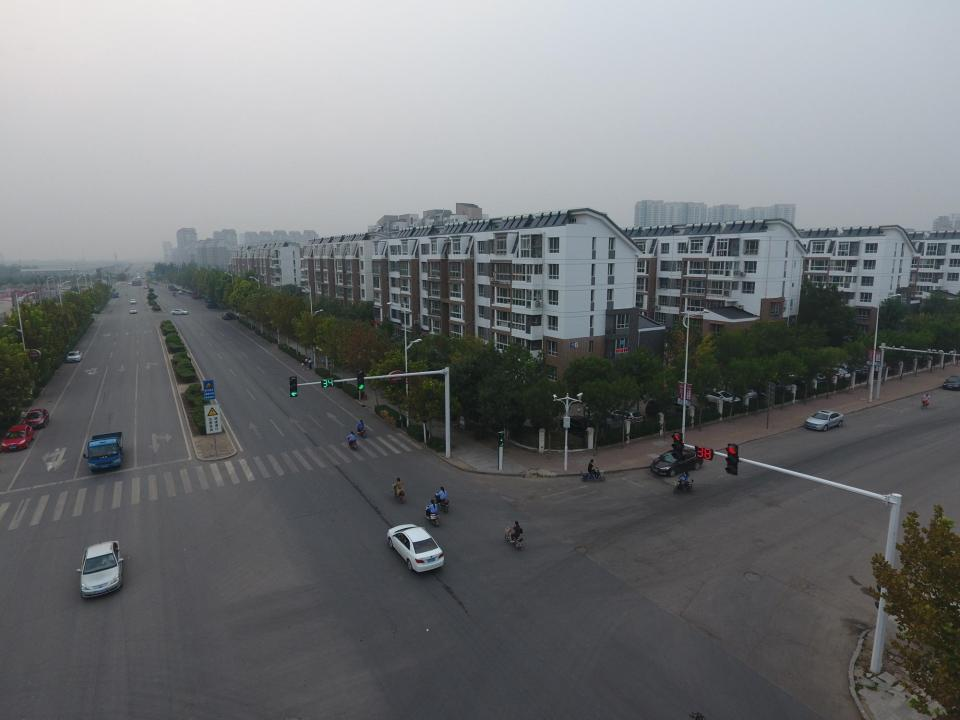car: (75, 540, 124, 599), (387, 524, 444, 572), (649, 447, 703, 476), (561, 414, 602, 439), (1, 424, 34, 452), (804, 410, 844, 432), (646, 399, 690, 418), (697, 388, 740, 406), (612, 407, 644, 427), (586, 412, 620, 430), (22, 408, 50, 429), (942, 374, 960, 389), (66, 350, 83, 362), (171, 309, 188, 315), (222, 314, 234, 320), (112, 290, 118, 298), (129, 308, 137, 314), (130, 298, 136, 304), (178, 290, 184, 294)
truck: (83, 430, 123, 473), (206, 299, 216, 308), (191, 291, 201, 299), (168, 285, 177, 291)
van: (826, 367, 853, 382)
